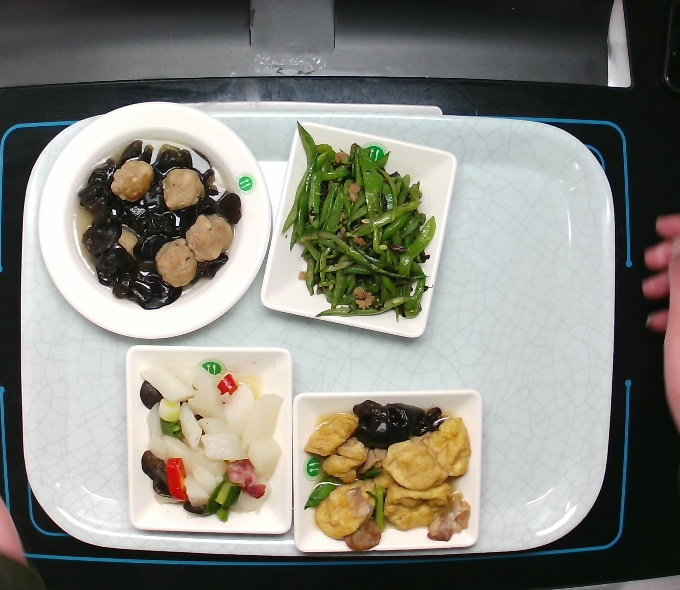wcq-MuErWanZi: (76, 139, 243, 309)
wcq-ShanYao: (137, 352, 286, 525)
wcq-SiJiDouChaoRou: (287, 121, 437, 324)
wcq-YouPaoRouPian: (301, 397, 474, 551)
